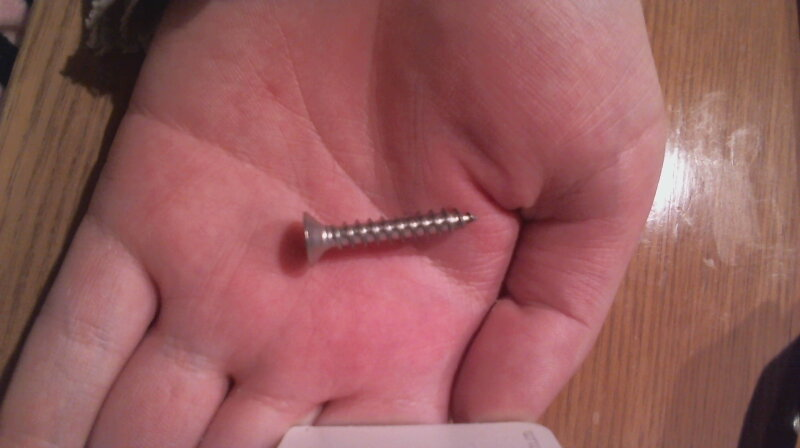S001: (292, 201, 480, 269)
